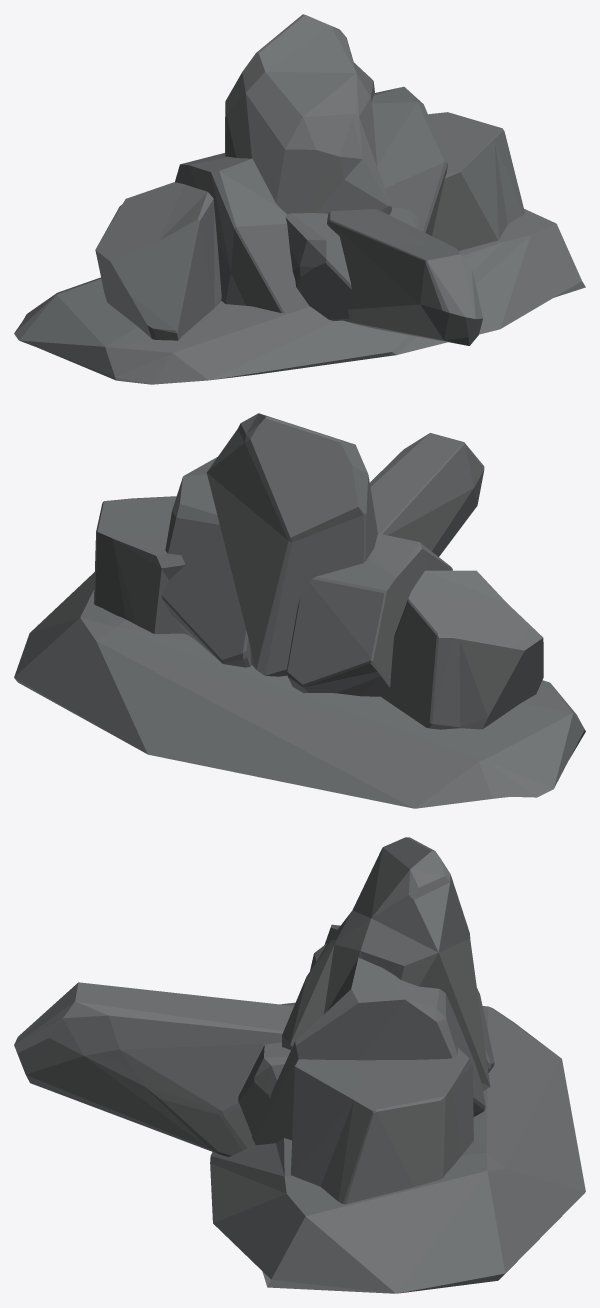
The model's file is SlideWallJump.fbx.
3 views of the same model, one above another, from view 1: azimuth 30°, elevation 25°; view 2: azimuth 150°, elevation 25°; view 3: azimuth 270°, elevation 25° (orthographic). The views are drawn at different scales.
Visible parts, largest first — view 1: Sphere.013; view 2: Sphere.013; view 3: Sphere.013.
Boxes of the visible parts, <box> form: Sphere.013: <box>14,14,585,384</box>; Sphere.013: <box>14,413,585,808</box>; Sphere.013: <box>14,837,585,1293</box>.
Bounding box in the file's own units: 1991 × 1021 × 1669.
